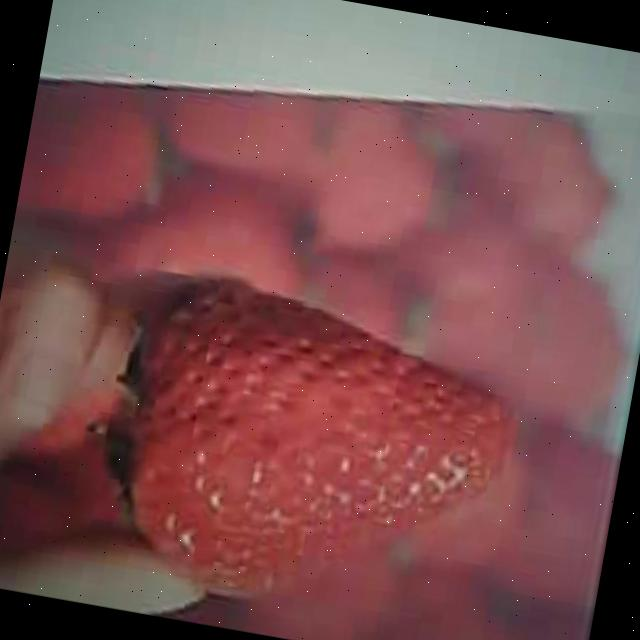strawberry: (101, 274, 528, 638)
